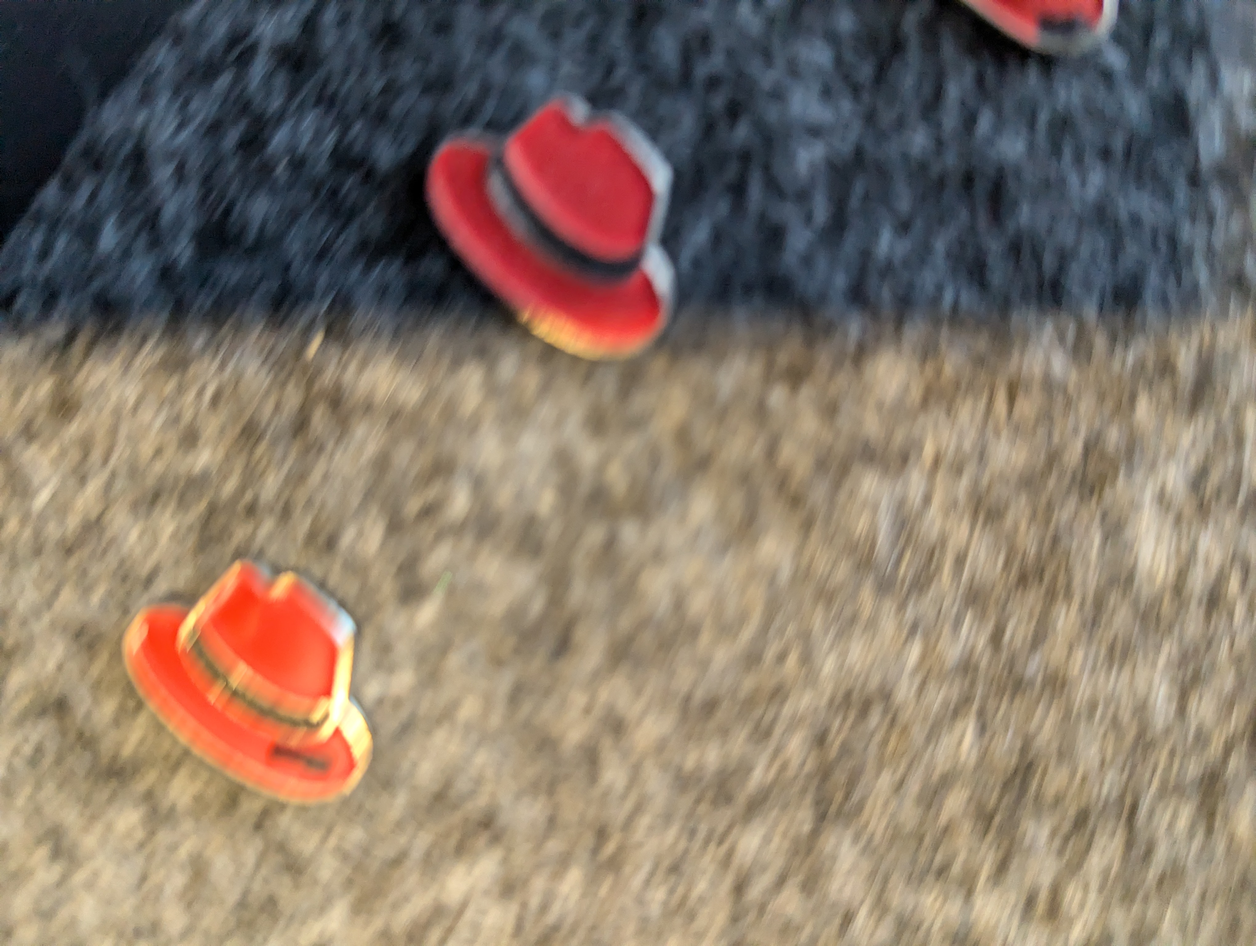Red-Hat: (85, 532, 424, 836), (396, 79, 704, 380)
Scratch: (261, 735, 340, 779)
